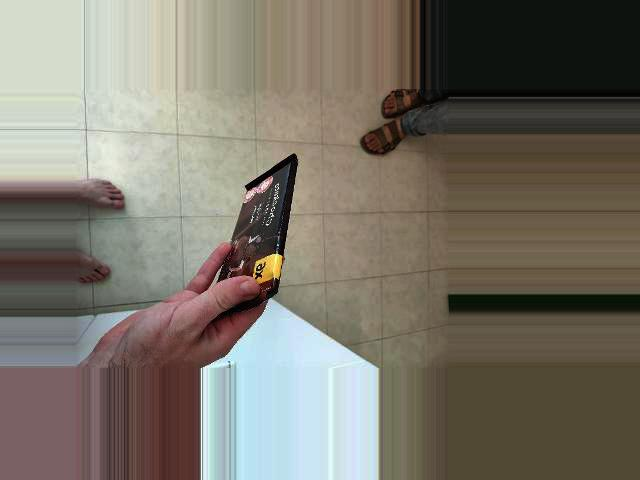chocolate: (196, 146, 304, 330)
